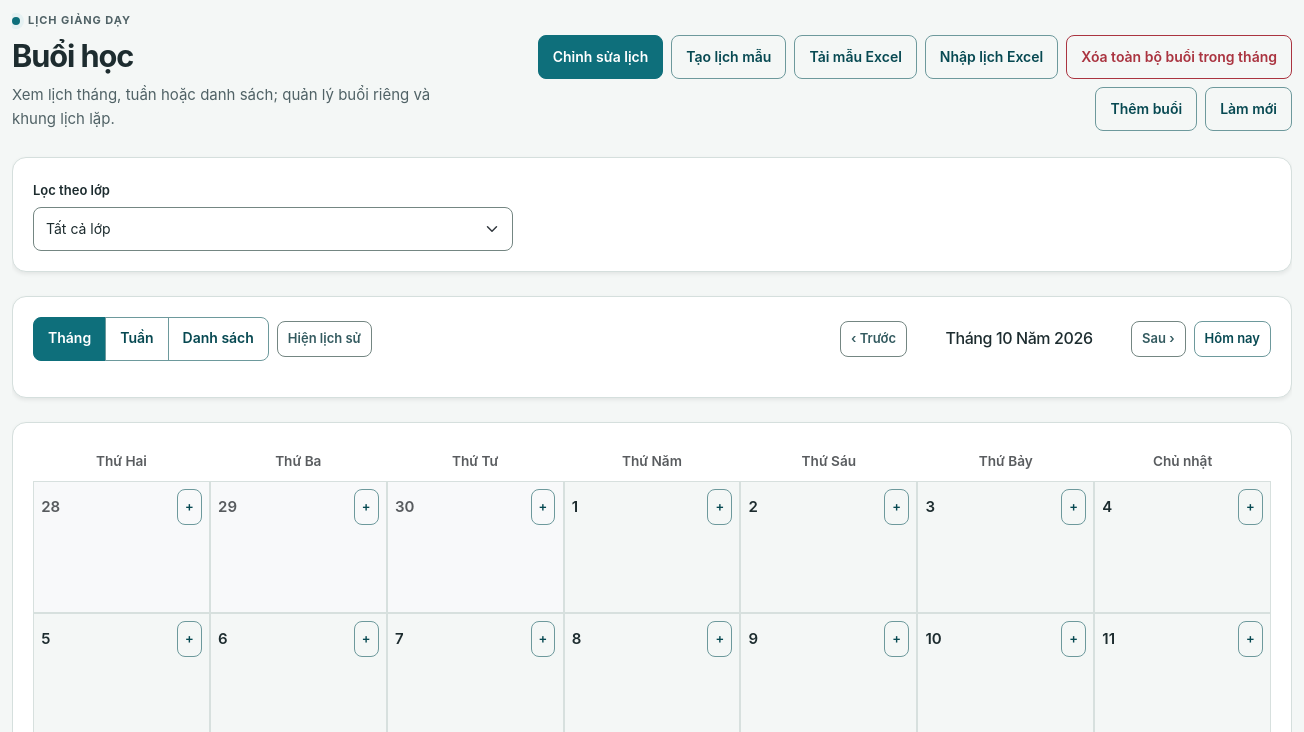
Test: AdminSessionsPage calendar › defaults to month view and supports month, week, and list modes
Check: the element with class "calendar-weekdays" shows "Thứ Hai", box 96,453 -> 147,469
Click the button with aria-label "Kỳ trước" at x=874, y=339, box 840,321 -> 907,357
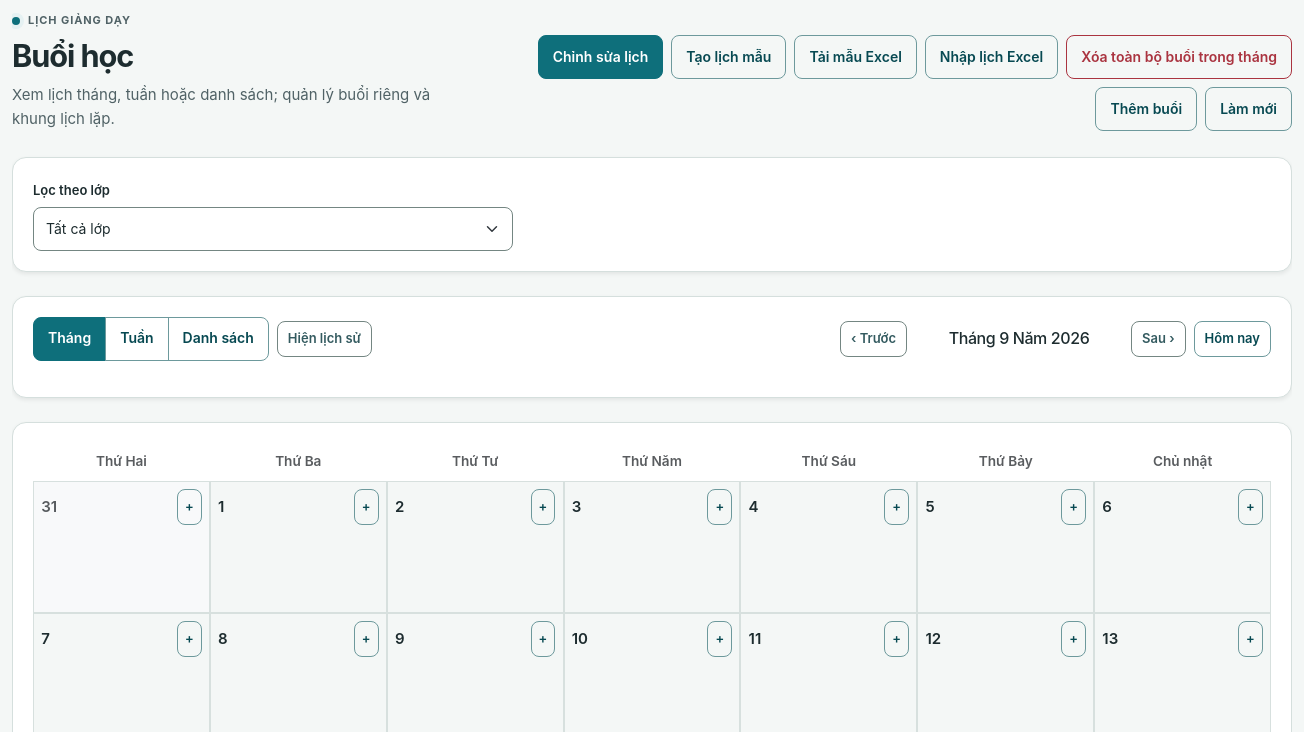
Click the button "Tuần" at x=137, y=339, box 105,317 -> 169,361
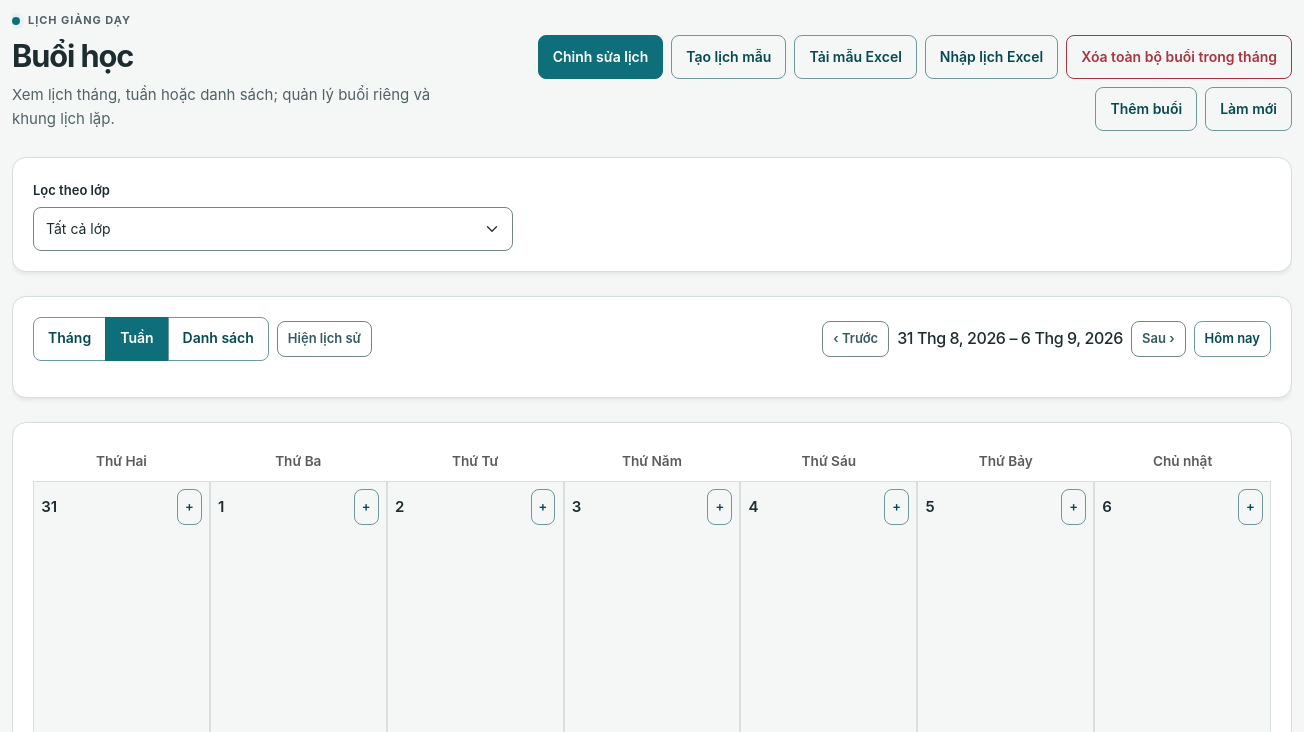
Check: the number of elements with class "calendar-day" is 7
Click the button "Danh sách" at x=218, y=339, box 168,317 -> 269,361
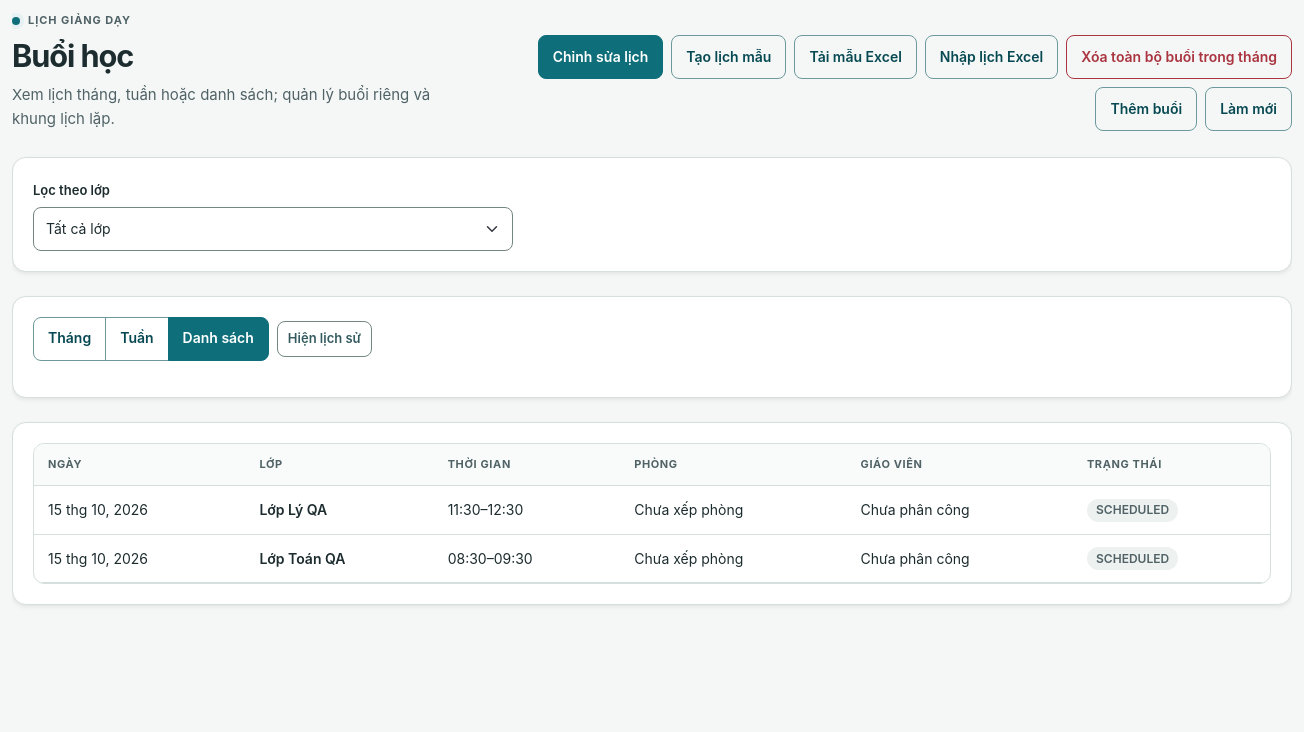
Check: the element with class "session-list" shows "Lớp Toán QA", box 259,550 -> 346,566
Check: the element with class "session-list" shows "Lớp Lý QA", box 259,501 -> 327,518
Check: the element showing "Ngày Lớp Thời gian Phòng Giáo viên Trạng thái" is shown, box 34,444 -> 1270,486
